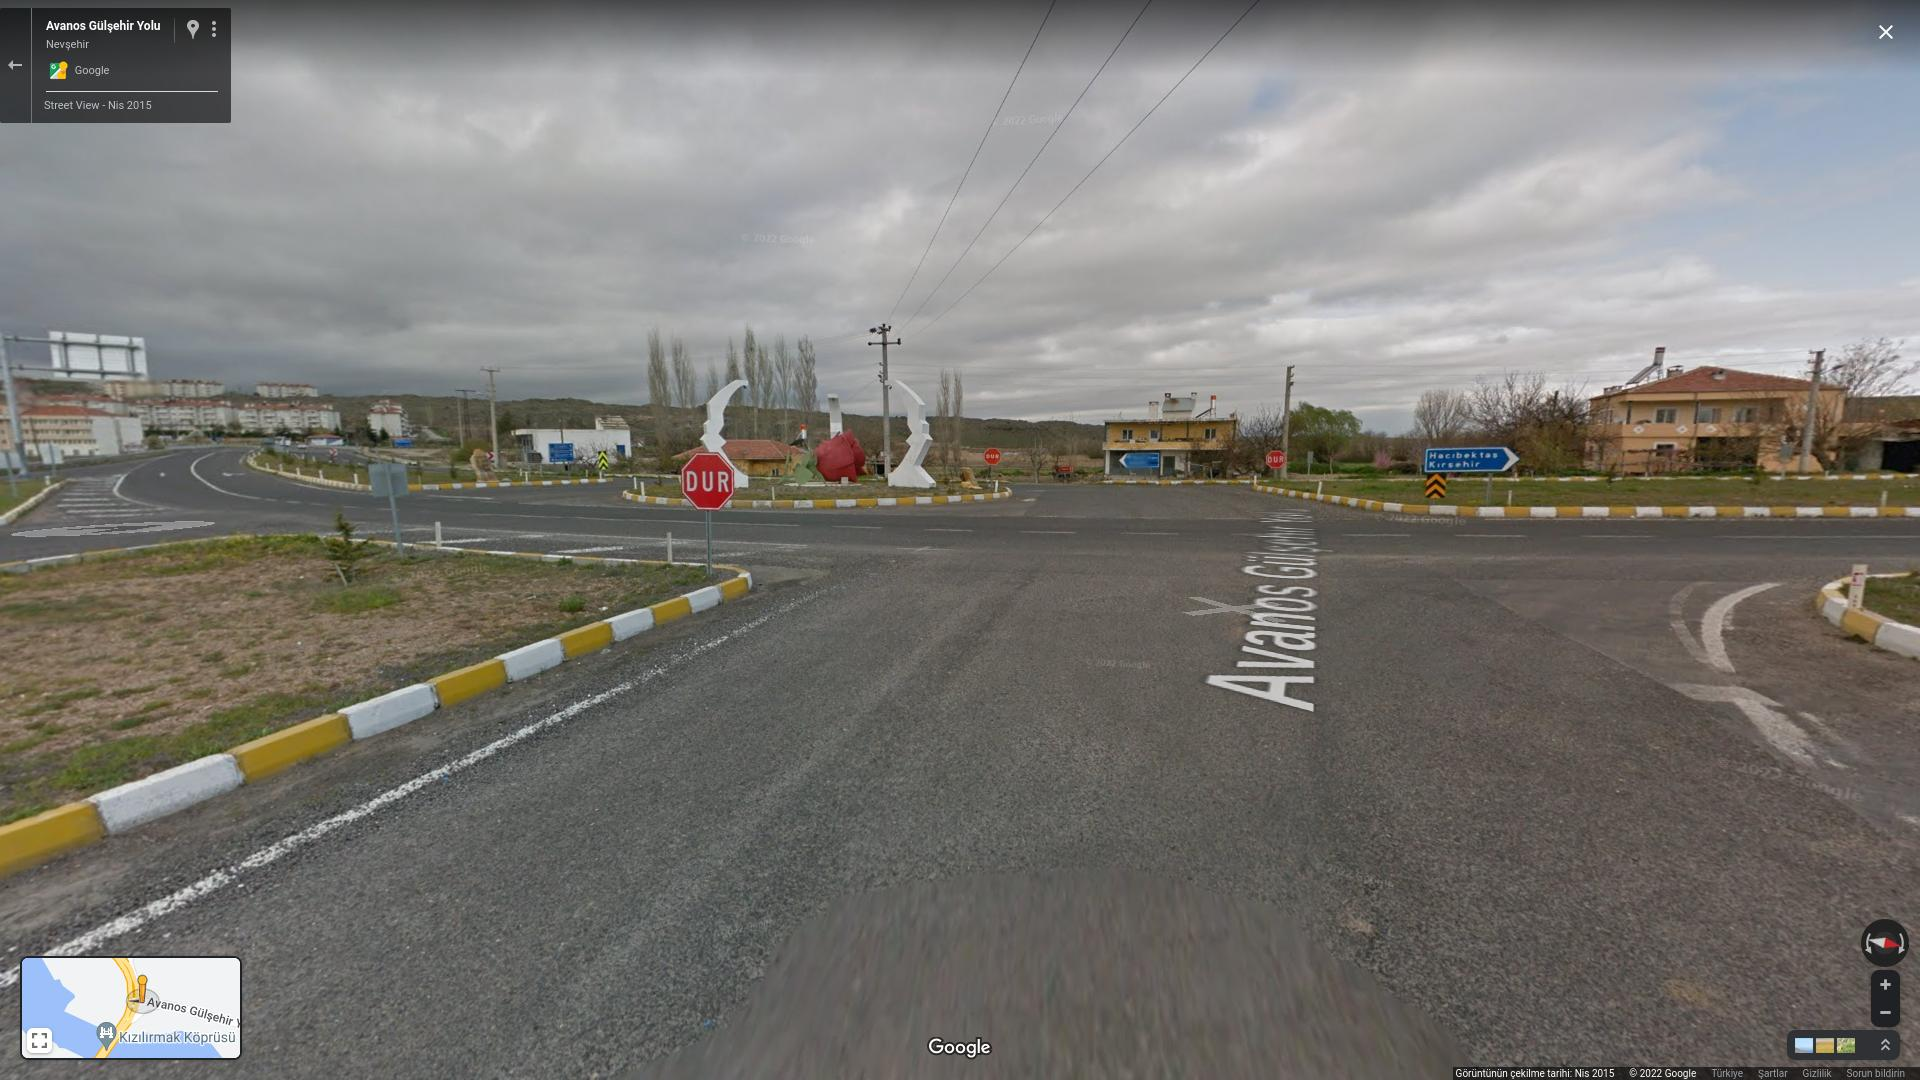stop: (683, 452, 736, 512)
